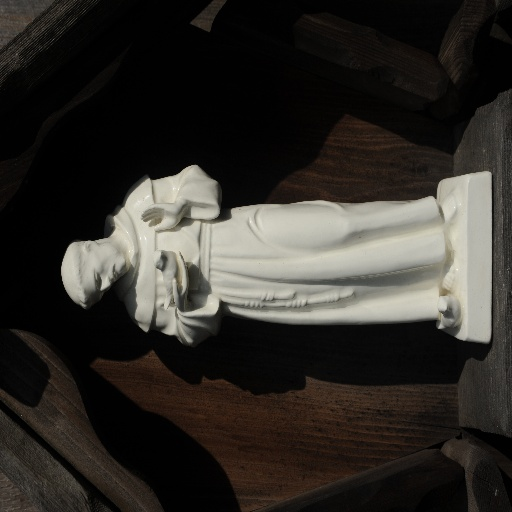hand: (172, 250, 190, 311), (143, 201, 181, 229)
